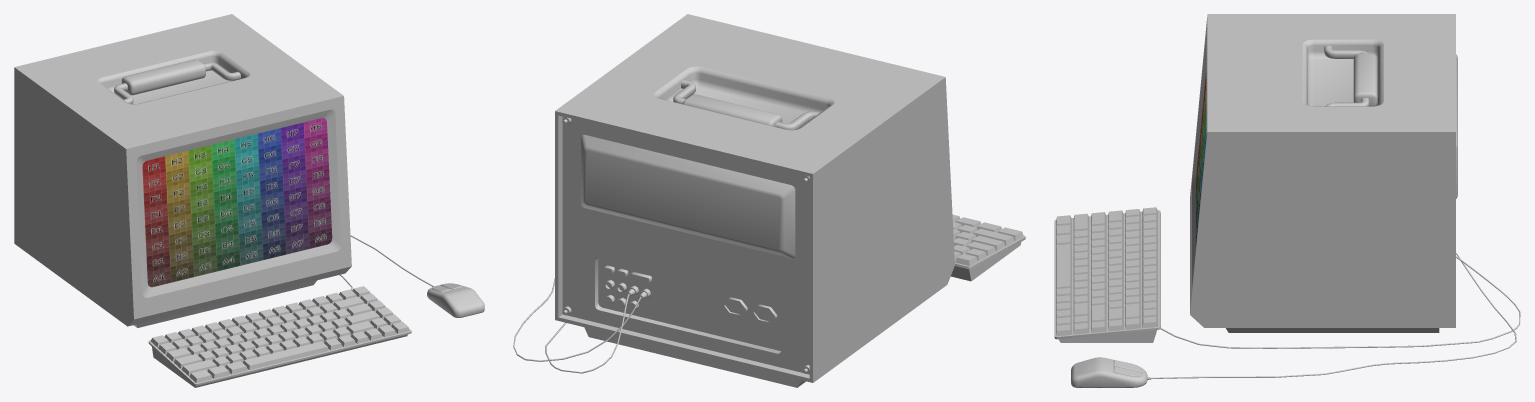
File: office.fbx
3 views of the same model, side by side, from view 1: azimuth 30°, elevation 25°; view 2: azimuth 150°, elevation 25°; view 3: azimuth 270°, elevation 25° (orthographic). The views are drawn at different scales.
Visible parts, largest first — view 1: Monitor, Keyboard, Handle, Mause; view 2: Monitor, Keyboard, Handle, Wire; view 3: Monitor, Keyboard, Mause, Wire, Handle.
Boxes of the visible parts, box(x1,y1,x2,y2) form: Monitor: box(14, 14, 351, 327); Keyboard: box(148, 286, 411, 387); Handle: box(114, 59, 240, 104); Mause: box(427, 283, 484, 317); Monitor: box(555, 14, 954, 387); Keyboard: box(950, 214, 1025, 281); Handle: box(673, 79, 819, 130); Wire: box(513, 278, 641, 373); Monitor: box(1190, 14, 1457, 332); Keyboard: box(1054, 207, 1160, 342); Mause: box(1071, 357, 1151, 387); Wire: box(1151, 252, 1520, 378); Handle: box(1324, 45, 1377, 106).
Bounding box in the file's own units: 57.11 × 34.83 × 69.31.
